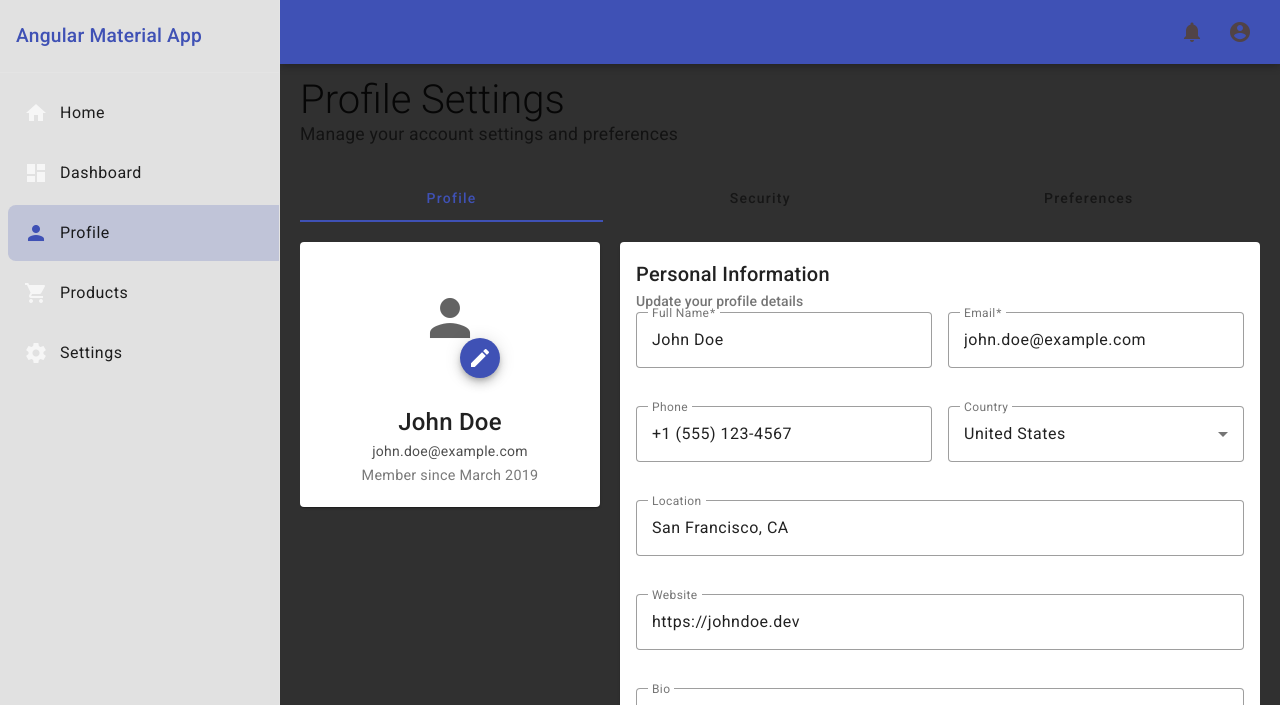
Test: Angular Material App E2E Tests › Profile Page › should validate required fields
The width and height of the screenshot is (1280, 705).
Clear the field named "name". click: (784, 340)
box: [652,328,916,352]
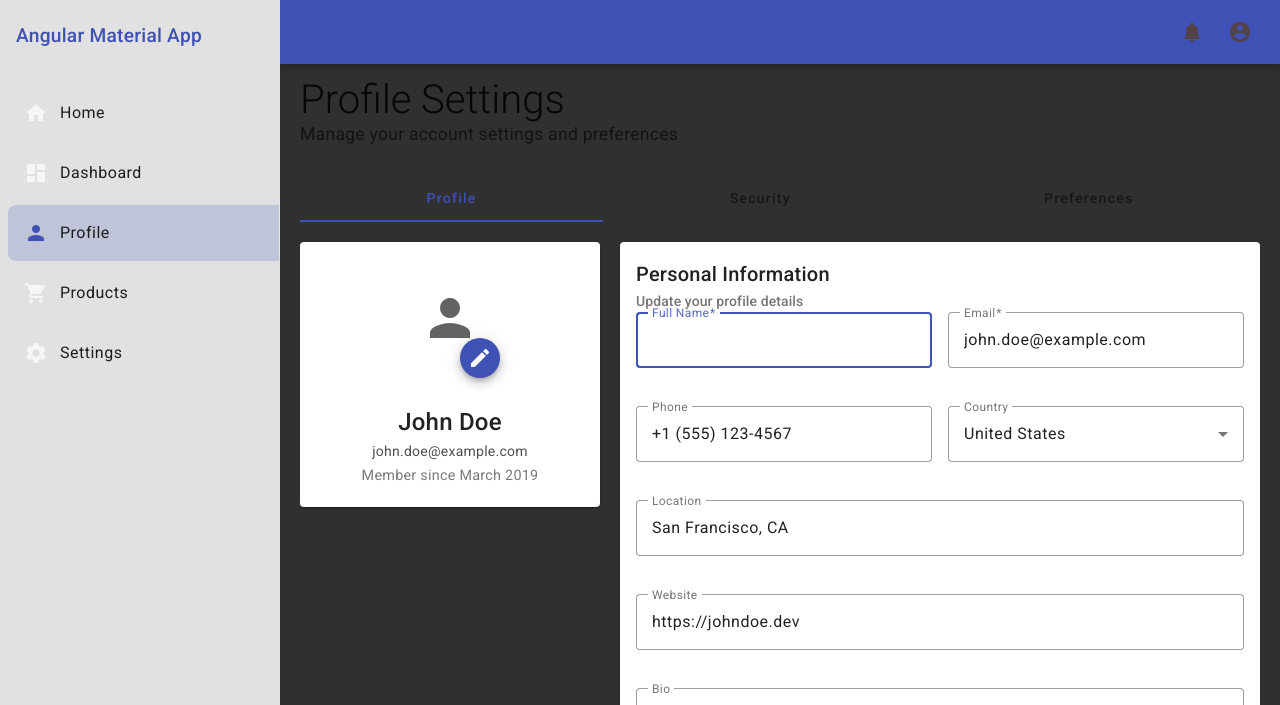
Click the field named "email". click: (1096, 340)
box: [964,328,1228,352]
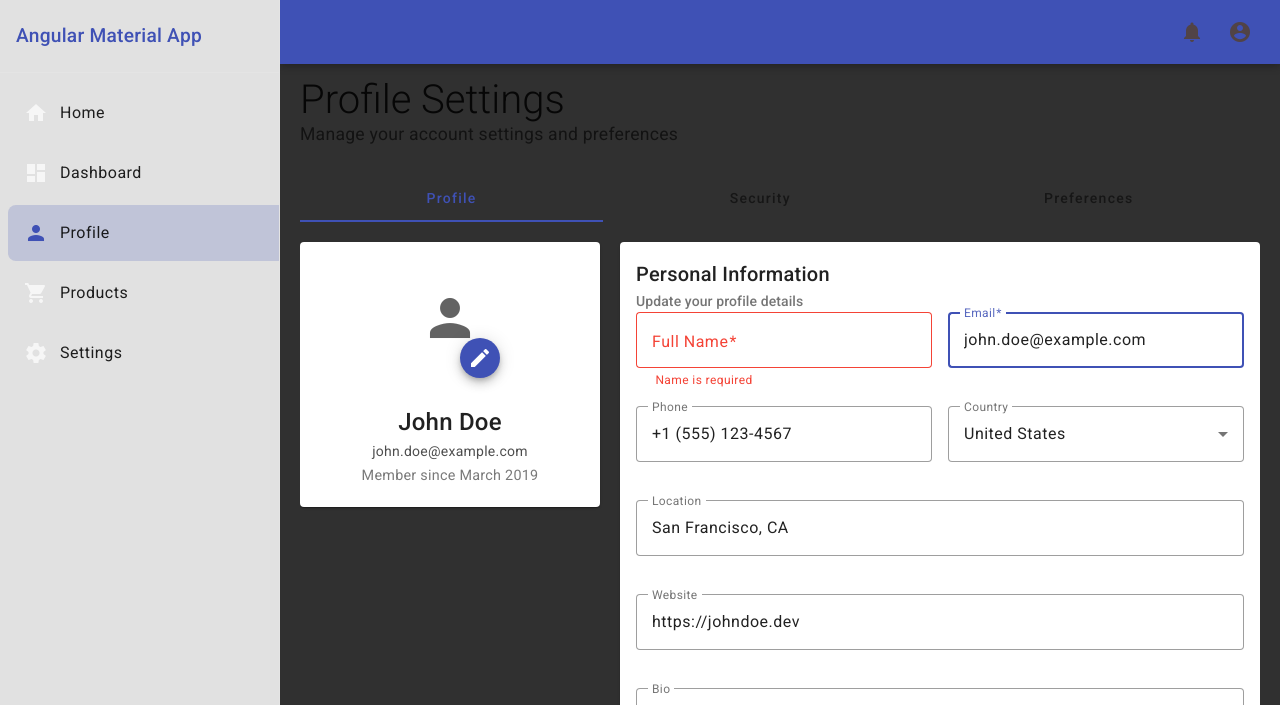
Result: the text "Name is required" is shown at [652,373,753,387]
